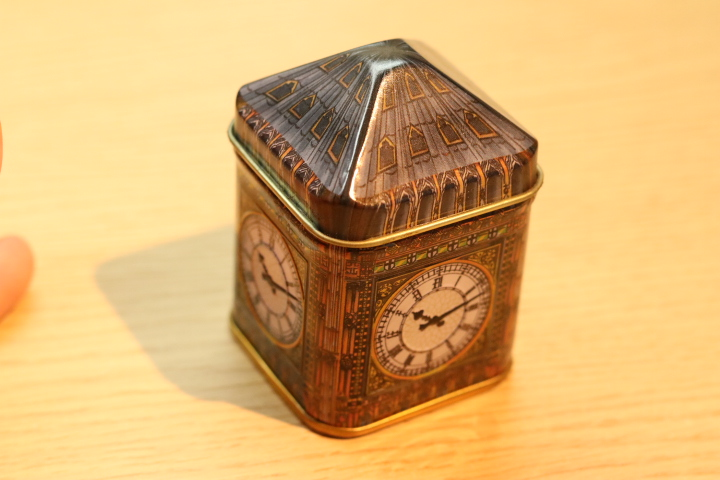Big Ben: (177, 22, 574, 448)
